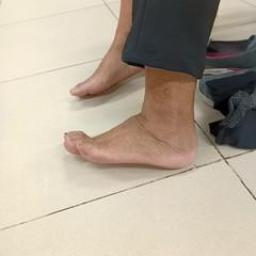Lateral View -Left Foot-: (51, 84, 220, 189)
